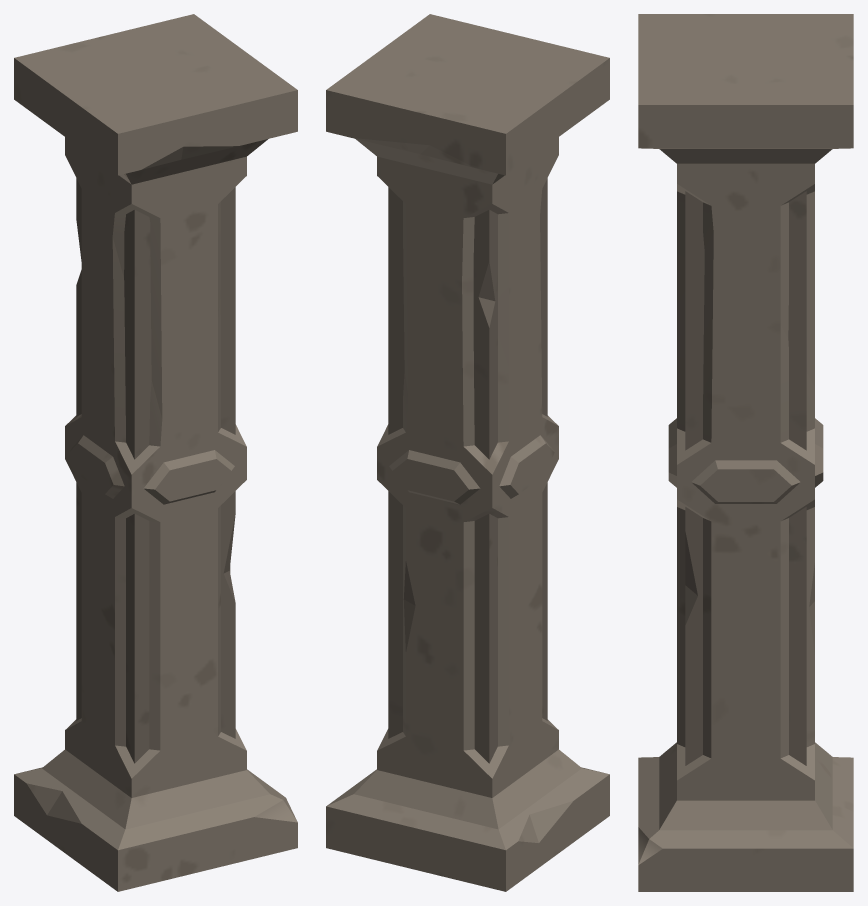
File: pillar.glb
The picture shows the model from 3 angles, left to right: view 1: azimuth 30°, elevation 25°; view 2: azimuth 150°, elevation 25°; view 3: azimuth 270°, elevation 25°; orthographic projection. The views are drawn at different scales.
Visible parts, largest first — view 1: SM_Env_Dwarf_Pillar_01; view 2: SM_Env_Dwarf_Pillar_01; view 3: SM_Env_Dwarf_Pillar_01.
Part boxes in pixels (<box>): SM_Env_Dwarf_Pillar_01: <box>14,14,297,891</box>; SM_Env_Dwarf_Pillar_01: <box>326,14,609,891</box>; SM_Env_Dwarf_Pillar_01: <box>638,14,853,891</box>.
Bounding box in the file's own units: 1.24 × 5 × 1.24.
Materials: 1 (1 with a texture image).
